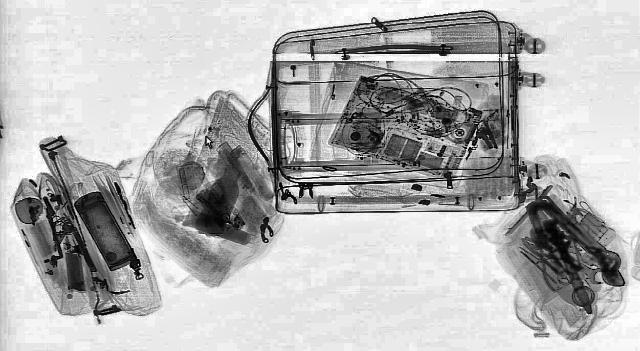Wrench: (522, 192, 640, 284)
